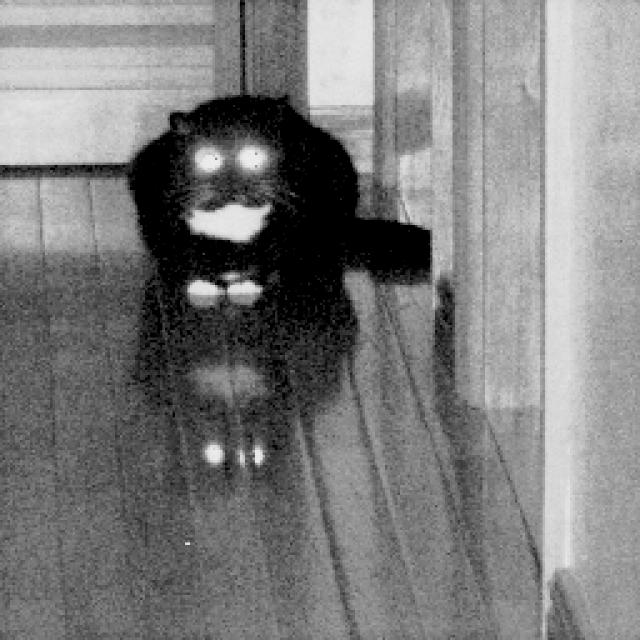cat: (119, 60, 449, 317)
